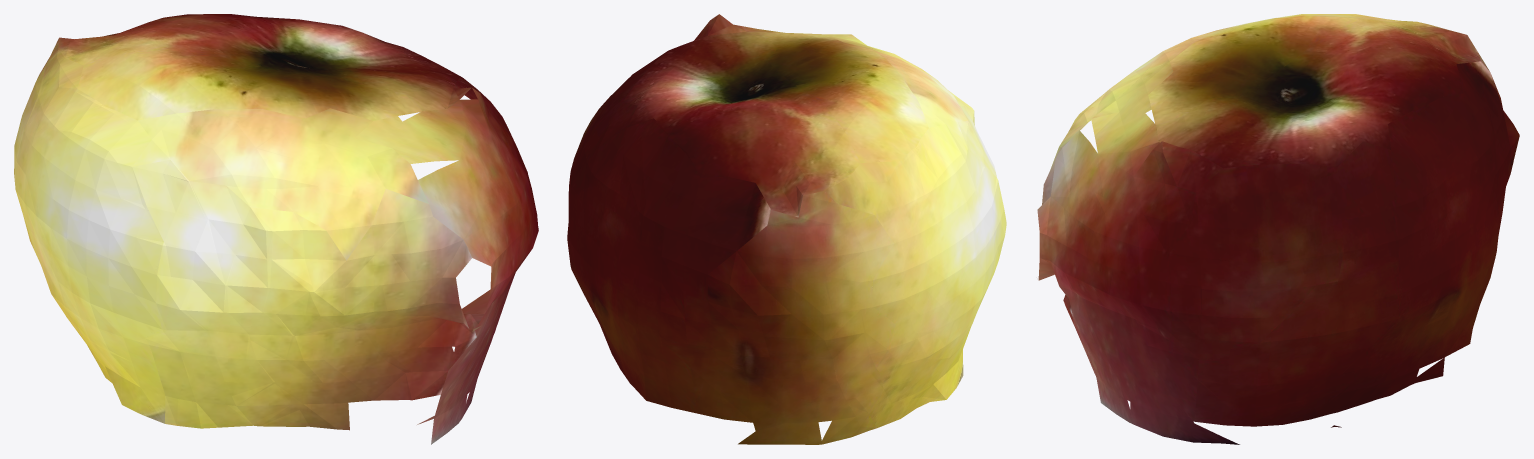
The model's file is apple_17_47_37.gltf.
3 renders of one model, left to right at view 1: azimuth 30°, elevation 25°; view 2: azimuth 150°, elevation 25°; view 3: azimuth 270°, elevation 25°, orthographic. The views are drawn at different scales.
Size of the model in its own units: 0.0788 by 0.0605 by 0.084.
Materials: 1 (1 with a texture image).
